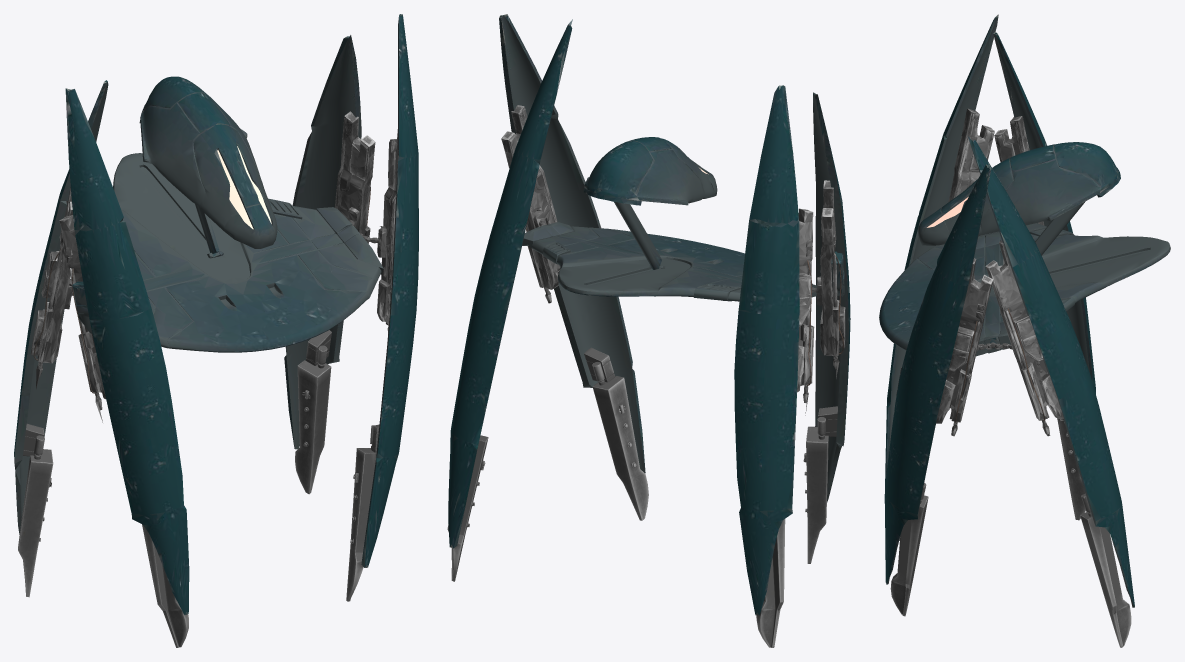
The model's file is sw_vulture_droid.glb.
3 views of the same model, side by side, from view 1: azimuth 30°, elevation 25°; view 2: azimuth 150°, elevation 25°; view 3: azimuth 270°, elevation 25° (orthographic). The views are drawn at different scales.
Visible parts, largest first — view 1: C_base_Body.001_0, C_base_Body.002_0, C_base_Metal_0 (×3), C_base_Wings_details_0, C_base_Eyes_0; view 2: C_base_Body.001_0, C_base_Body.002_0, C_base_Metal_0 (×3), C_base_Wings_details_0; view 3: C_base_Body.001_0, C_base_Body.002_0, C_base_Wings_details_0 (×2), C_base_Metal_0 (×2).
Boxes of the visible parts, left/top/right/bottom form: C_base_Body.001_0: left=14, top=14, right=418, bottom=614; C_base_Body.002_0: left=72, top=76, right=383, bottom=352; C_base_Metal_0 (×3): left=18, top=219, right=380, bottom=647; C_base_Wings_details_0: left=30, top=111, right=398, bottom=422; C_base_Eyes_0: left=217, top=146, right=271, bottom=229; C_base_Body.001_0: left=448, top=14, right=850, bottom=615; C_base_Body.002_0: left=522, top=137, right=844, bottom=301; C_base_Metal_0 (×3): left=447, top=219, right=837, bottom=647; C_base_Wings_details_0: left=501, top=105, right=845, bottom=415; C_base_Body.001_0: left=884, top=14, right=1134, bottom=607; C_base_Body.002_0: left=879, top=142, right=1170, bottom=356; C_base_Wings_details_0 (×2): left=936, top=108, right=1063, bottom=436; C_base_Metal_0 (×2): left=890, top=311, right=1131, bottom=647.
Size of the model in its own units: 1.12 by 1.67 by 0.8769.
Materials: 6 (6 with a texture image).
